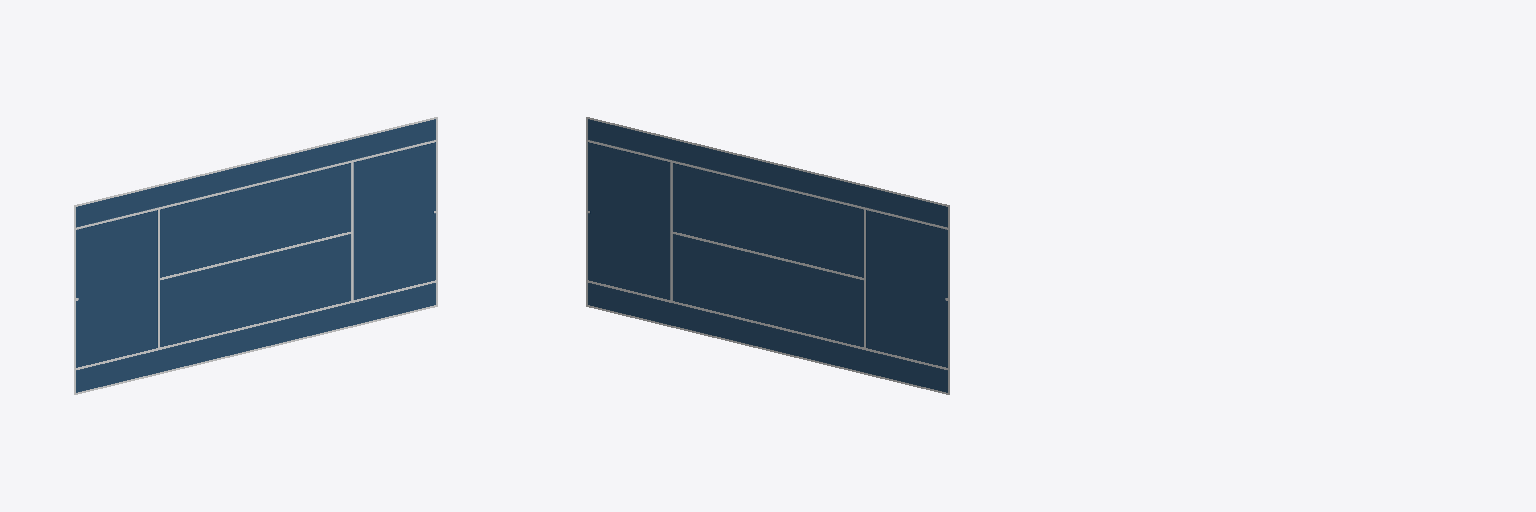
The picture shows the model from 3 angles: view 1: azimuth 30°, elevation 25°; view 2: azimuth 150°, elevation 25°; view 3: azimuth 270°, elevation 25°; orthographic projection.
Visible parts, largest first — view 1: Plane.001; view 2: Plane.001; view 3: none.
Boxes of the visible parts, x1=… form: Plane.001: x1=74, y1=117, x2=437, y2=394; Plane.001: x1=586, y1=117, x2=949, y2=394.
Size of the model in its own units: 22 by 11 by 0.
Materials: 1 (1 with a texture image).